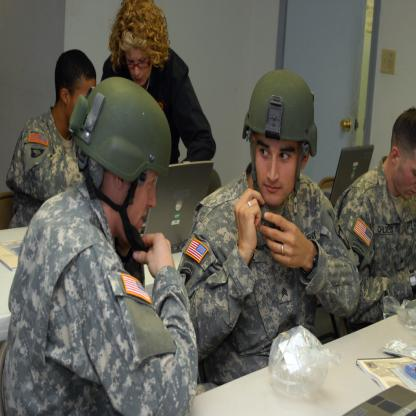Helmet: (73, 69, 167, 235), (242, 68, 319, 219)
